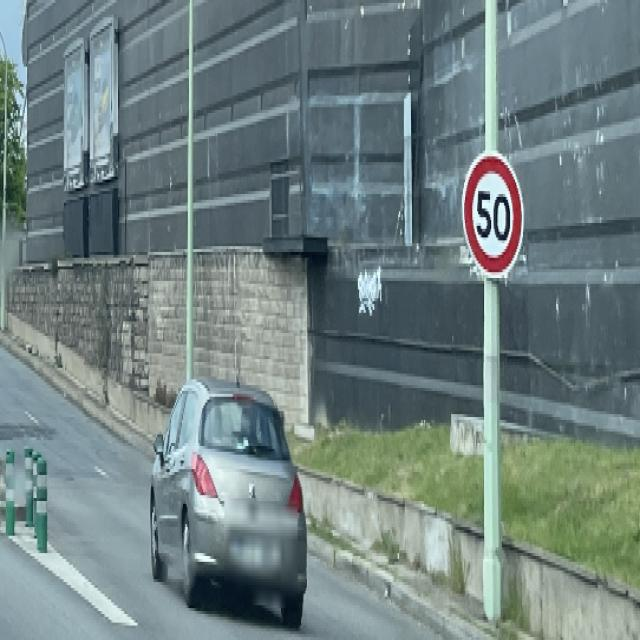speed_50: (462, 155, 524, 276)
